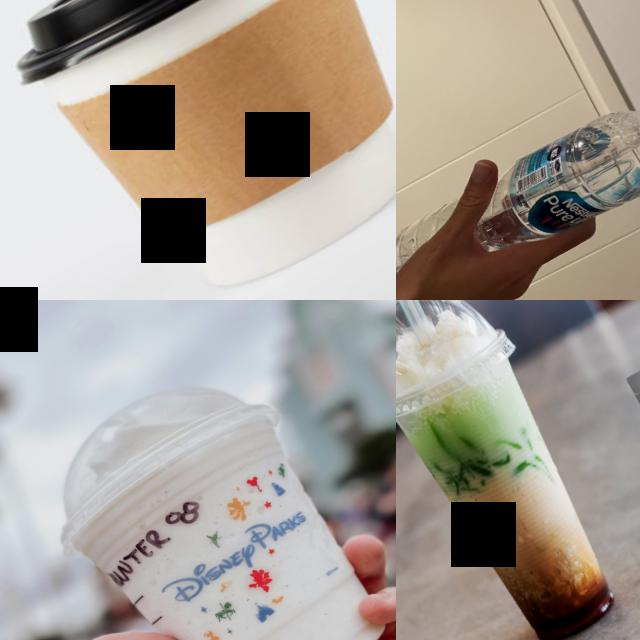bottle: (396, 64, 640, 300)
cup: (0, 0, 396, 300), (14, 341, 396, 640), (396, 300, 640, 640)
